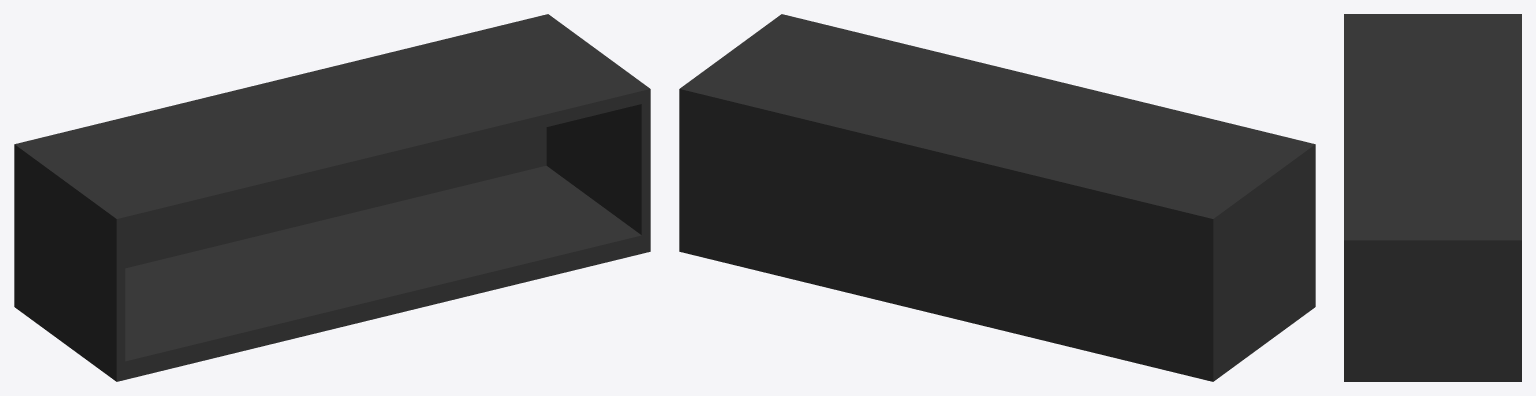
File: shelf_4.glb
The picture shows the model from 3 angles, left to right: view 1: azimuth 30°, elevation 25°; view 2: azimuth 150°, elevation 25°; view 3: azimuth 270°, elevation 25°; orthographic projection. The views are drawn at different scales.
Parts seen in each view (by area): view 1: Wall Shelf 1; view 2: Wall Shelf 1; view 3: Wall Shelf 1.
Part boxes in pixels (x1,y1,x2,y2): Wall Shelf 1: [14, 14, 650, 381]; Wall Shelf 1: [679, 14, 1315, 381]; Wall Shelf 1: [1344, 14, 1521, 381].
Bounding box in the file's own units: 1.37 × 0.3981 × 0.4532.
Materials: 1 (1 with a texture image).
